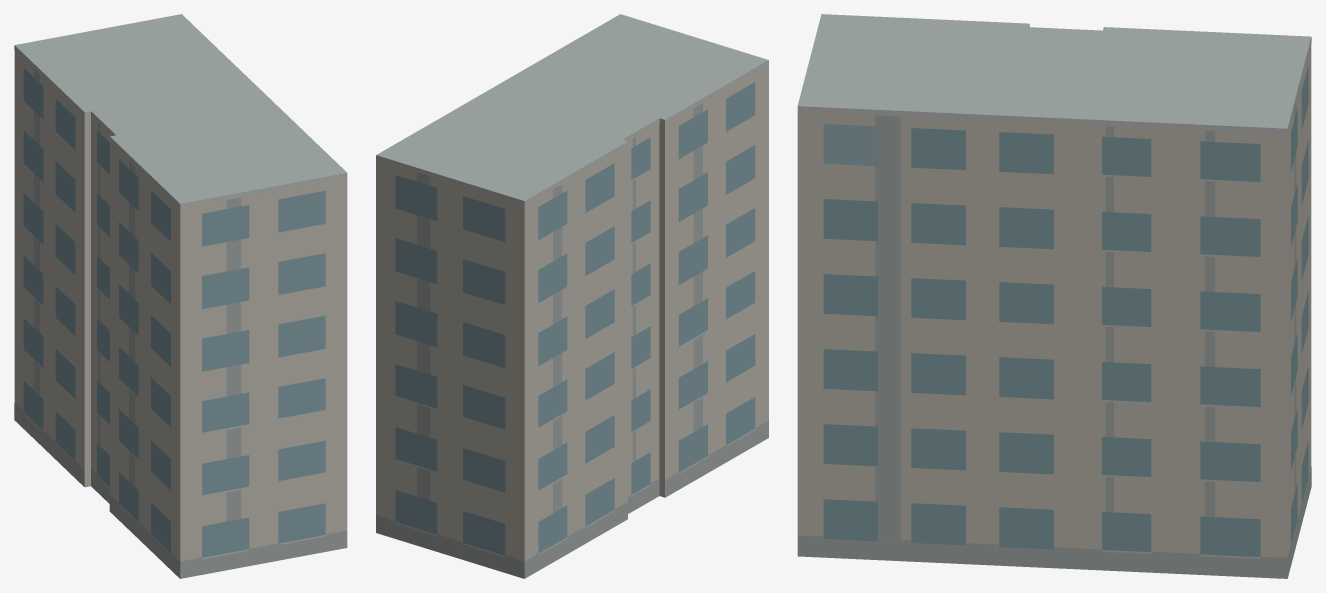
File: survey-upis-32924580.glb
3 renders of one model, left to right at view 1: azimuth 30°, elevation 25°; view 2: azimuth 150°, elevation 25°; view 3: azimuth 270°, elevation 25°, orthographic. The views are drawn at different scales.
Parts seen in each view (by area): view 1: survey-upis-32924580.tmp; view 2: survey-upis-32924580.tmp; view 3: survey-upis-32924580.tmp.
Boxes of the visible parts, x1=… form: survey-upis-32924580.tmp: x1=14, y1=14, x2=347, y2=578; survey-upis-32924580.tmp: x1=376, y1=14, x2=768, y2=578; survey-upis-32924580.tmp: x1=797, y1=14, x2=1311, y2=578.
Bounding box in the file's own units: 10.17 × 18.6 × 19.25.
